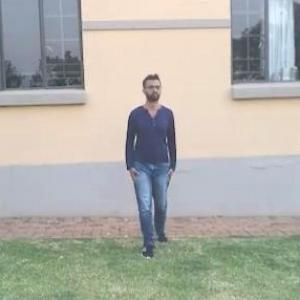follow: (118, 60, 186, 276)
